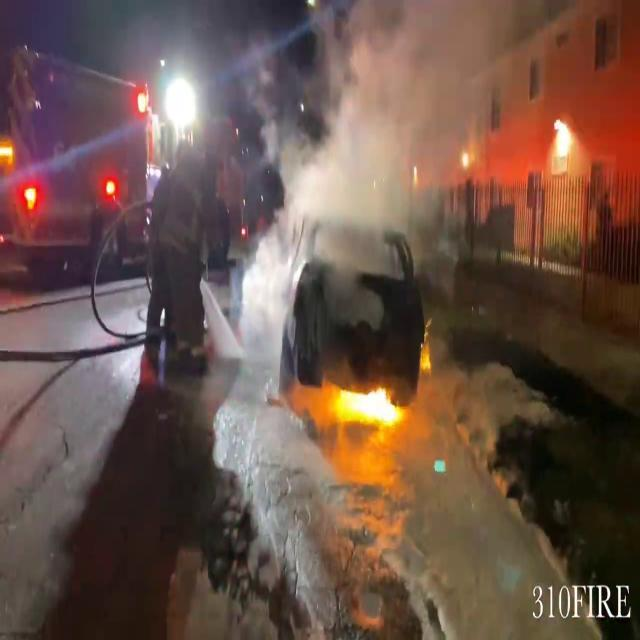Fire: (321, 374, 406, 438)
Smoke: (257, 0, 534, 197)
